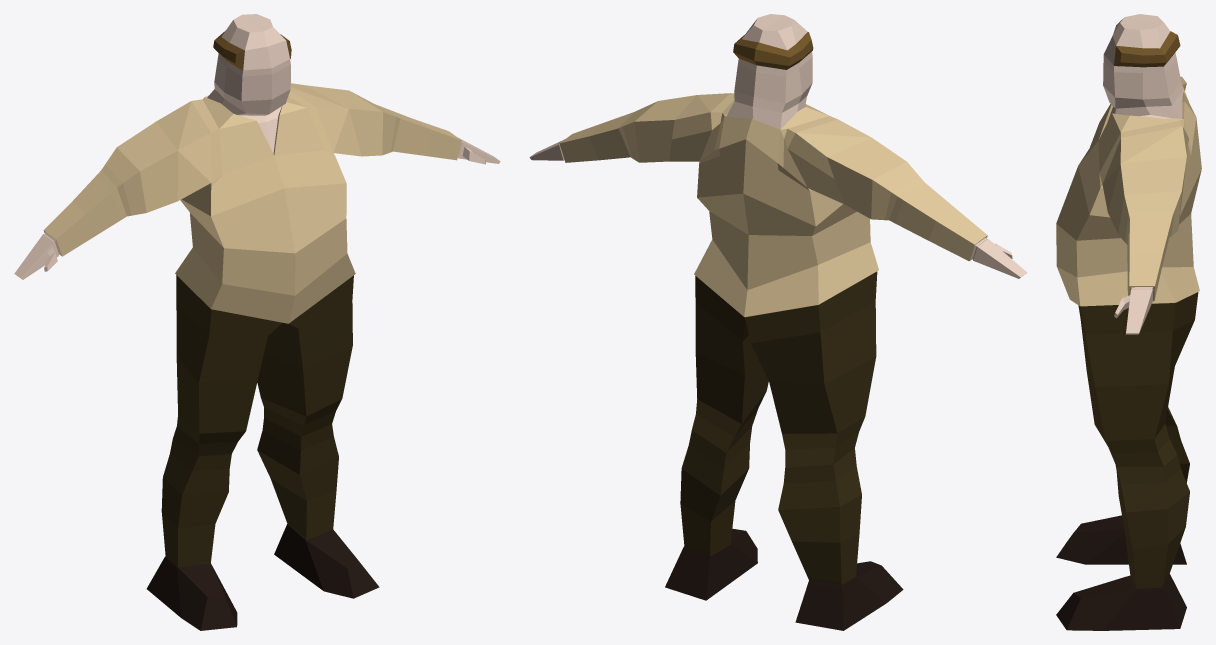
The model's file is Grubasek_test2.fbx.
3 views of the same model, side by side, from view 1: azimuth 30°, elevation 25°; view 2: azimuth 150°, elevation 25°; view 3: azimuth 270°, elevation 25° (orthographic). The views are drawn at different scales.
Parts seen in each view (by area): view 1: czlowiek; view 2: czlowiek; view 3: czlowiek.
Part boxes in pixels (x1,y1,x2,y2): czlowiek: [14, 14, 500, 630]; czlowiek: [529, 14, 1027, 630]; czlowiek: [1056, 14, 1201, 630].
Bounding box in the file's own units: 234 × 261 × 61.13.
